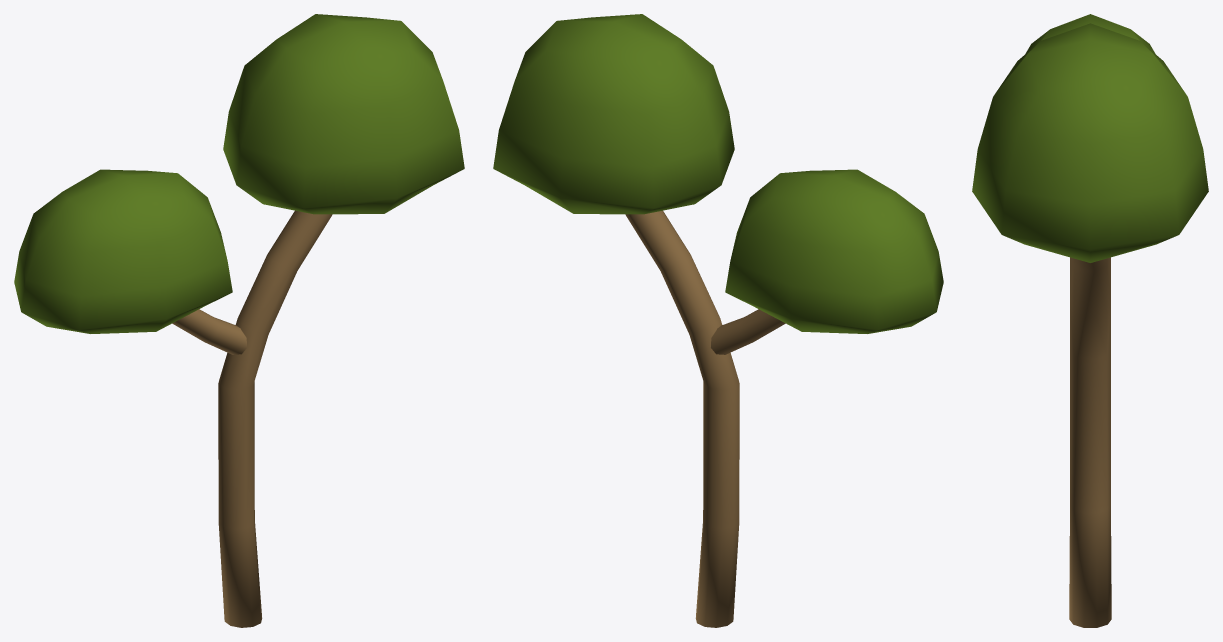
The model's file is Resource_Tree2.glb.
3 renders of one model, left to right at view 1: azimuth 30°, elevation 25°; view 2: azimuth 150°, elevation 25°; view 3: azimuth 270°, elevation 25°, orthographic. The views are drawn at different scales.
Visible parts, largest first — view 1: Resource_Tree2; view 2: Resource_Tree2; view 3: Resource_Tree2.
Part boxes in pixels (x1=…): Resource_Tree2: x1=14, y1=14, x2=464, y2=627; Resource_Tree2: x1=493, y1=14, x2=943, y2=627; Resource_Tree2: x1=972, y1=14, x2=1208, y2=627.
Bounding box in the file's own units: 0.6909 × 0.8799 × 0.2979.
